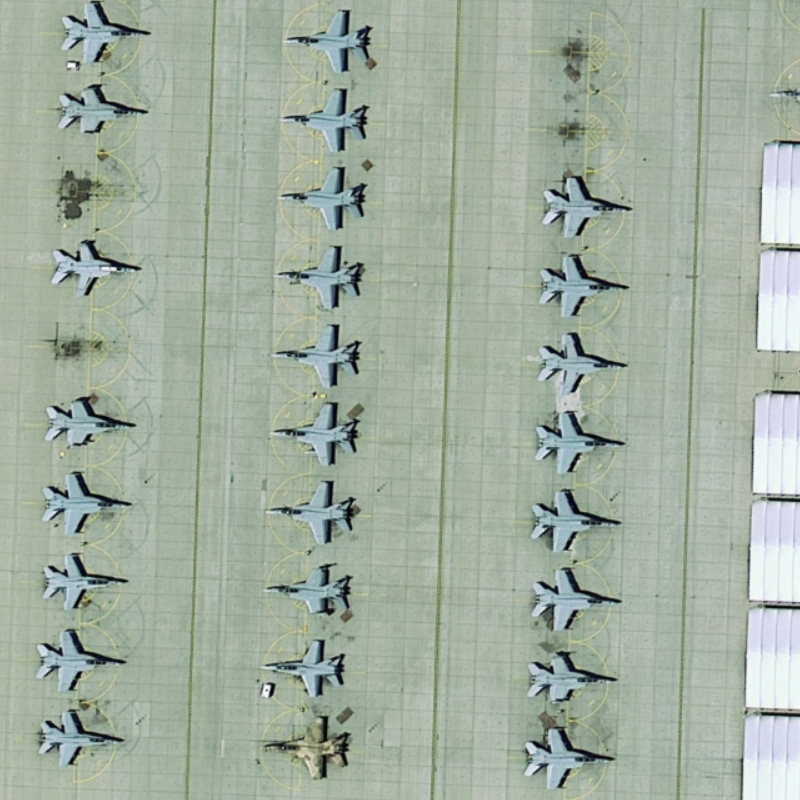A16: (273, 81, 375, 158), (262, 395, 365, 471), (529, 250, 631, 326), (524, 561, 626, 637), (539, 168, 639, 245), (44, 228, 145, 303), (514, 722, 620, 793), (524, 484, 627, 557), (260, 320, 362, 393), (265, 243, 367, 315), (257, 709, 352, 786), (531, 329, 632, 401), (529, 407, 631, 478), (256, 555, 360, 624), (259, 477, 360, 548), (282, 7, 382, 78), (32, 623, 132, 694), (55, 1, 157, 70), (38, 388, 143, 455), (273, 164, 371, 234), (37, 468, 135, 537), (249, 636, 348, 704), (52, 79, 151, 144), (32, 706, 129, 772), (38, 548, 132, 616), (520, 645, 620, 706)
